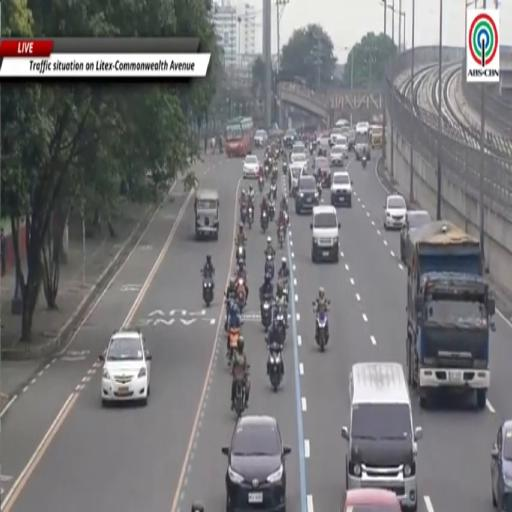bus: (225, 117, 253, 157)
car: (342, 362, 422, 511), (222, 415, 290, 511), (100, 330, 151, 405), (491, 420, 511, 510), (310, 205, 340, 262), (400, 211, 431, 262), (341, 488, 401, 511), (295, 175, 319, 214), (383, 195, 407, 230), (331, 171, 353, 207), (288, 165, 303, 197), (355, 134, 371, 161), (243, 155, 260, 179), (329, 145, 345, 166), (336, 136, 348, 158), (254, 130, 268, 148), (329, 127, 342, 146), (313, 157, 329, 172), (283, 130, 296, 148), (290, 153, 307, 166), (347, 129, 356, 150), (292, 141, 305, 153), (356, 122, 369, 134), (336, 119, 350, 127)
jeepney: (194, 189, 219, 239)
motorcycle: (268, 344, 283, 392), (233, 367, 246, 418), (201, 270, 214, 307), (316, 311, 328, 351), (274, 305, 286, 344), (228, 327, 240, 364), (261, 298, 272, 332), (236, 278, 247, 311), (264, 253, 274, 279), (279, 278, 288, 303), (236, 246, 245, 264), (261, 211, 268, 233), (278, 224, 284, 248), (271, 164, 278, 182), (248, 205, 253, 229), (316, 178, 322, 198), (240, 205, 246, 225), (269, 202, 275, 221), (270, 183, 276, 200), (259, 176, 264, 193), (285, 211, 289, 226), (309, 142, 313, 155), (265, 165, 269, 178), (362, 155, 366, 168), (283, 162, 287, 174)
truck: (406, 220, 495, 409), (370, 125, 383, 149)
